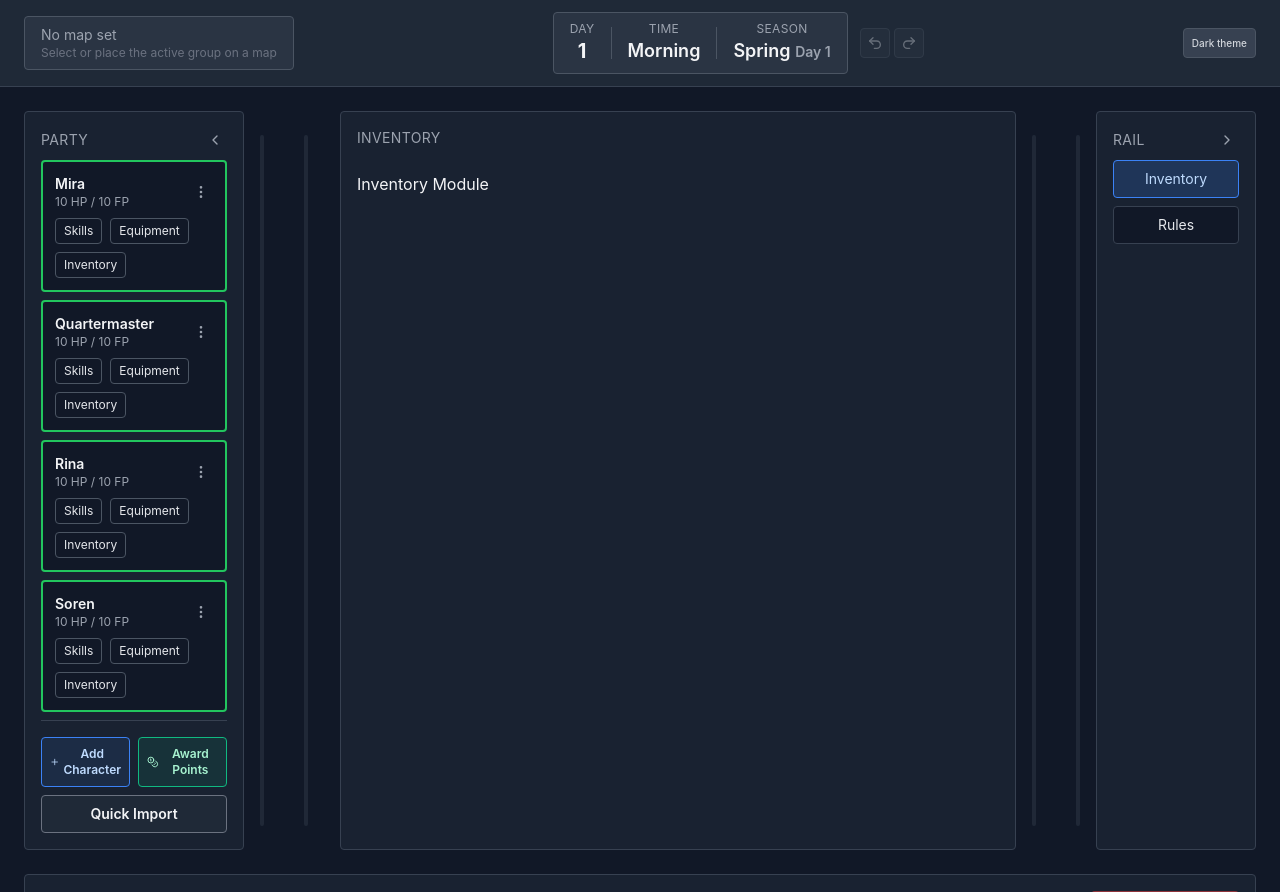
Test: UnifiedShell module routing › shows Inventory content after clicking Inventory
First click Rules to open the module pane, then switch to Inventory
Click the button with test id "rail-module-rules".
click(1176, 225)  # box [1113, 206, 1239, 244]
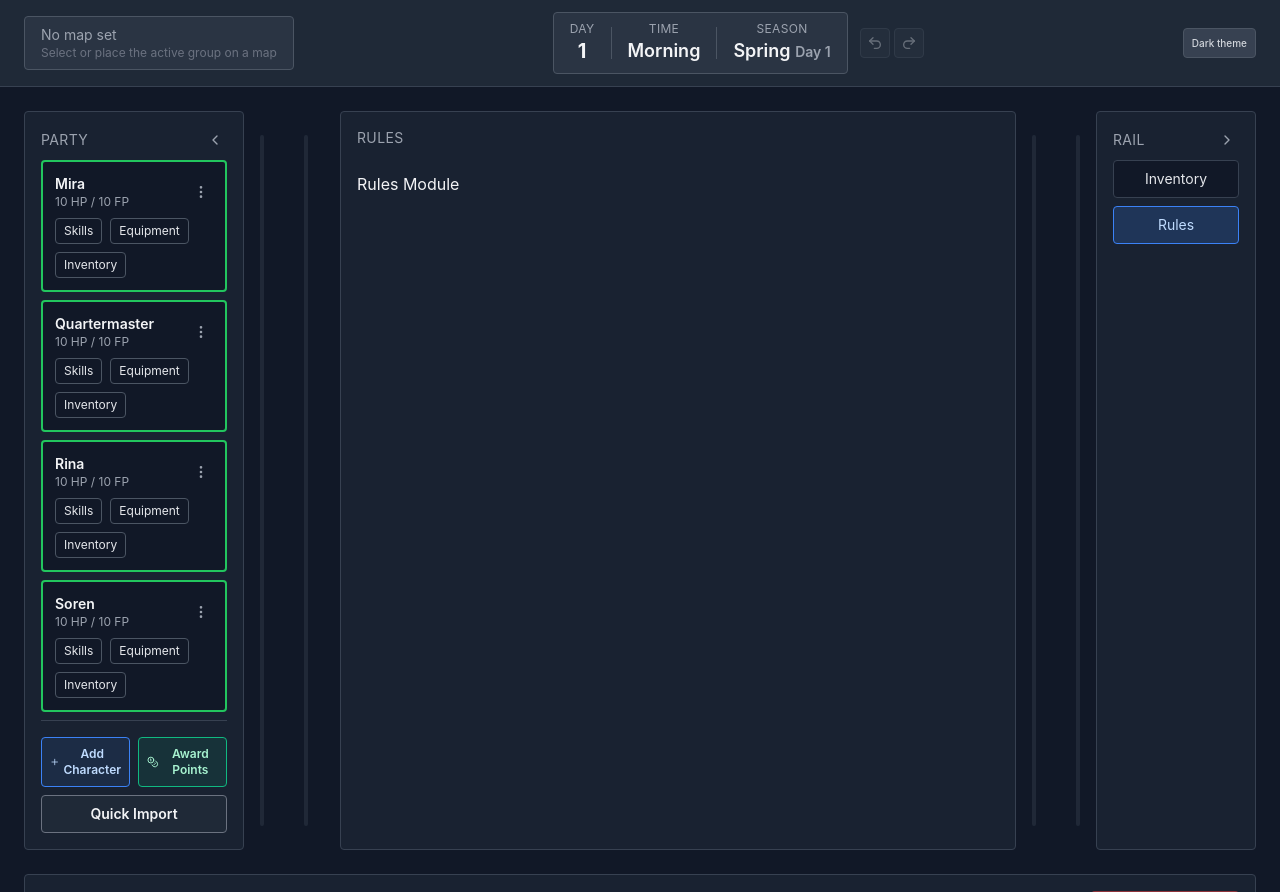
Now the text "Rules Module" is shown, box [357, 174, 459, 194]
Click the button with test id "rail-module-inventory".
click(1176, 179)  # box [1113, 160, 1239, 198]
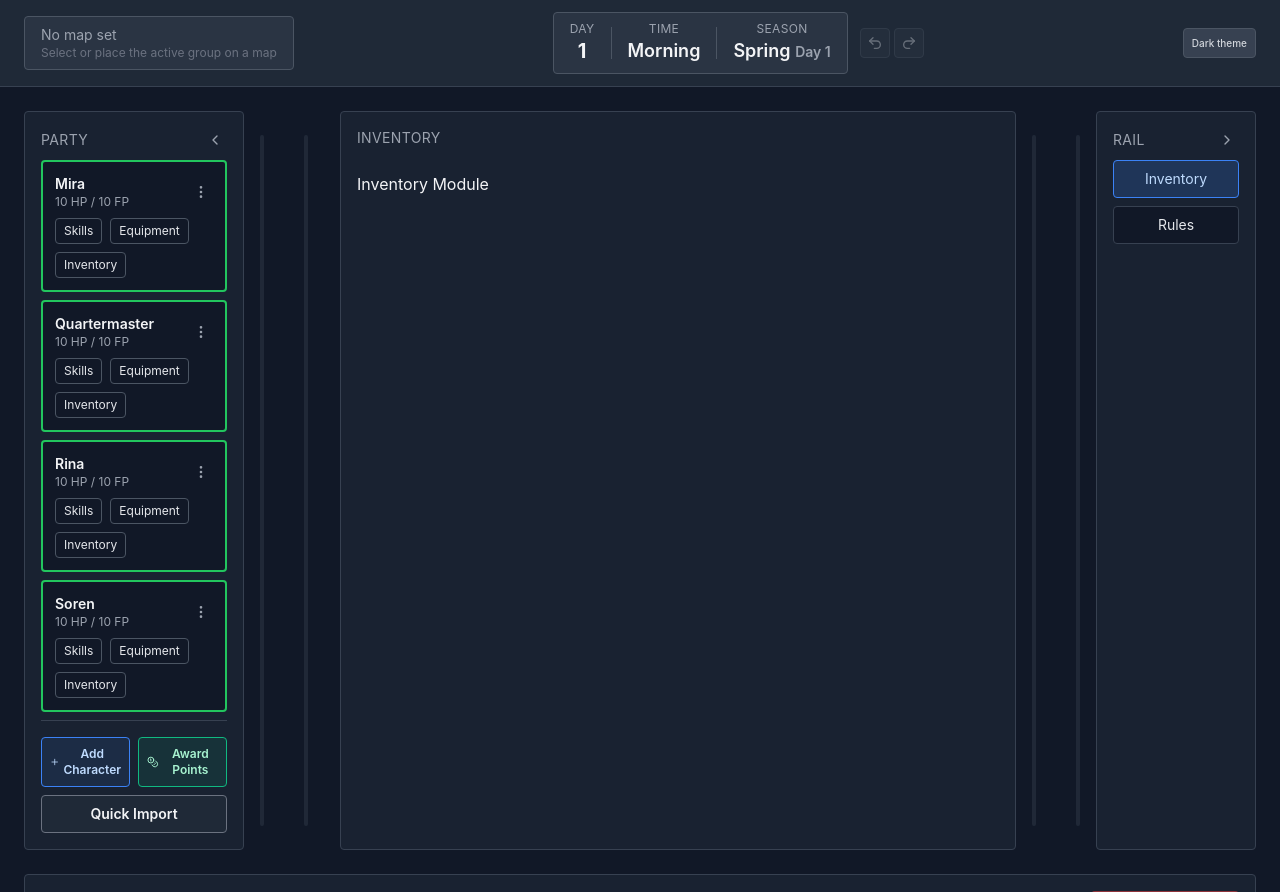
Now the text "Inventory Module" is shown, box [357, 174, 489, 194]
